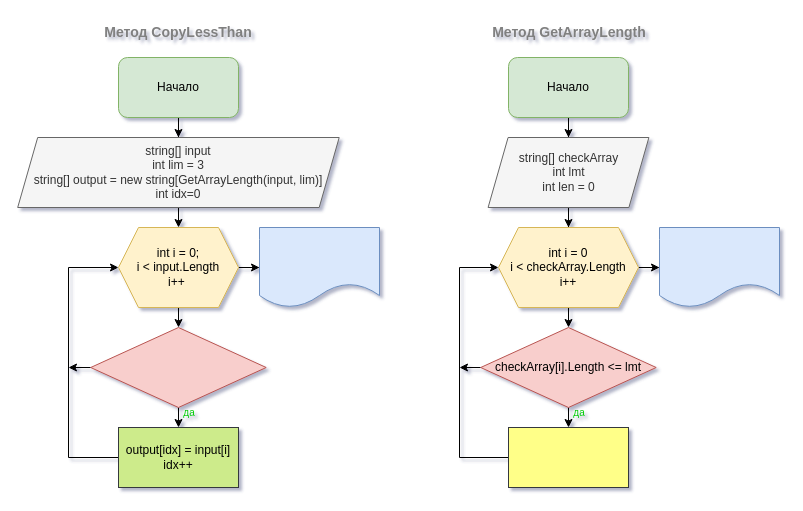
Image size: 803x511. Some labels were removed from this diagram. Here are the shapes that lost their labels. From the top down, the centre of each, then its label:
the point at 319,267: return output;
the point at 719,267: return len;
the point at 178,367: input[i].Length <= lim
the point at 568,457: len++
